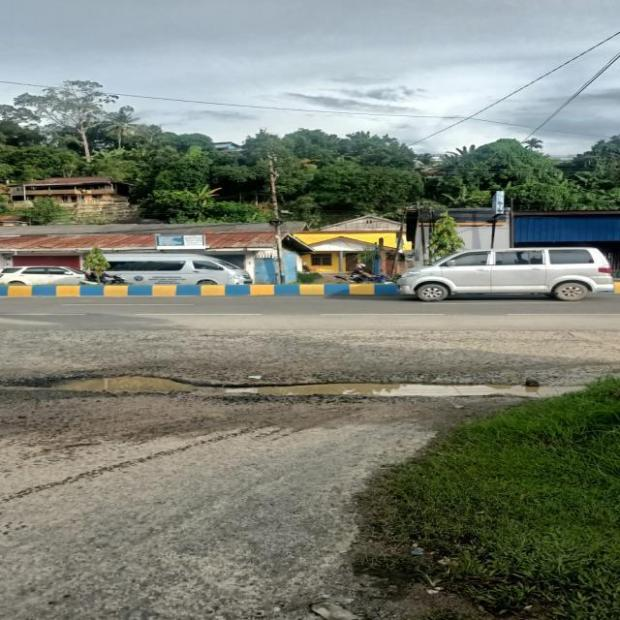lubang: (0, 375, 585, 398)
